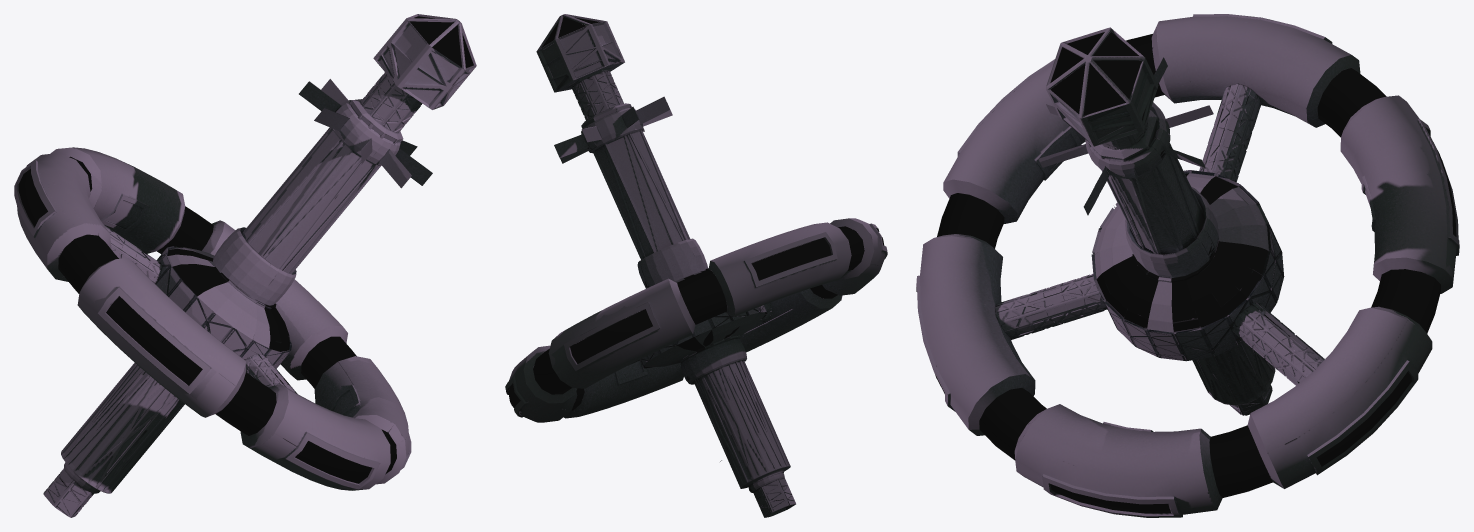
The model's file is station_draco.glb.
3 renders of one model, left to right at view 1: azimuth 30°, elevation 25°; view 2: azimuth 150°, elevation 25°; view 3: azimuth 270°, elevation 25°, orthographic. The views are drawn at different scales.
Parts seen in each view (by area): view 1: Torus.001; view 2: Torus.001; view 3: Torus.001.
Part boxes in pixels (x1,y1,x2,y2): Torus.001: (14, 14, 476, 517); Torus.001: (505, 14, 887, 517); Torus.001: (916, 14, 1459, 517).
Size of the model in its own units: 0.6267 by 0.724 by 0.6599.
Materials: 2 (2 with a texture image).
